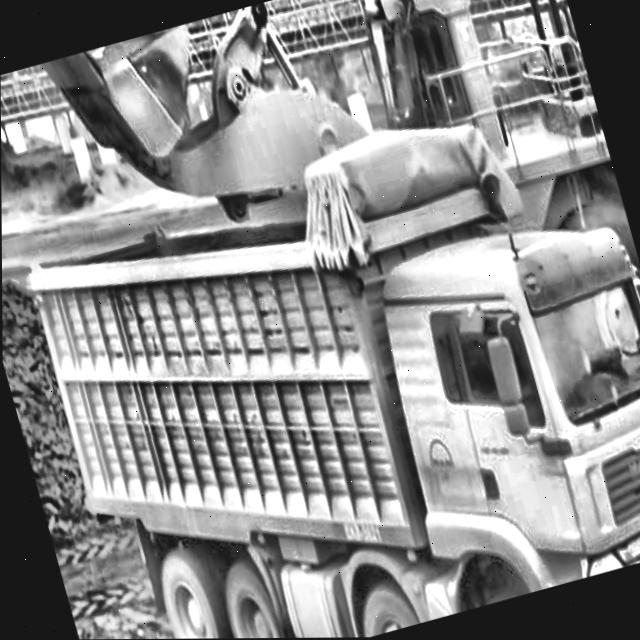buldozerpayloadergrader: (19, 0, 640, 575)
dump_truck: (0, 57, 640, 640)
